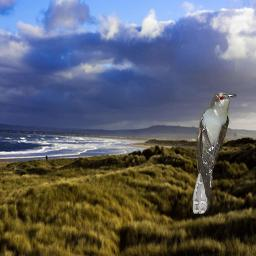Cuckoo: (191, 91, 237, 214)
